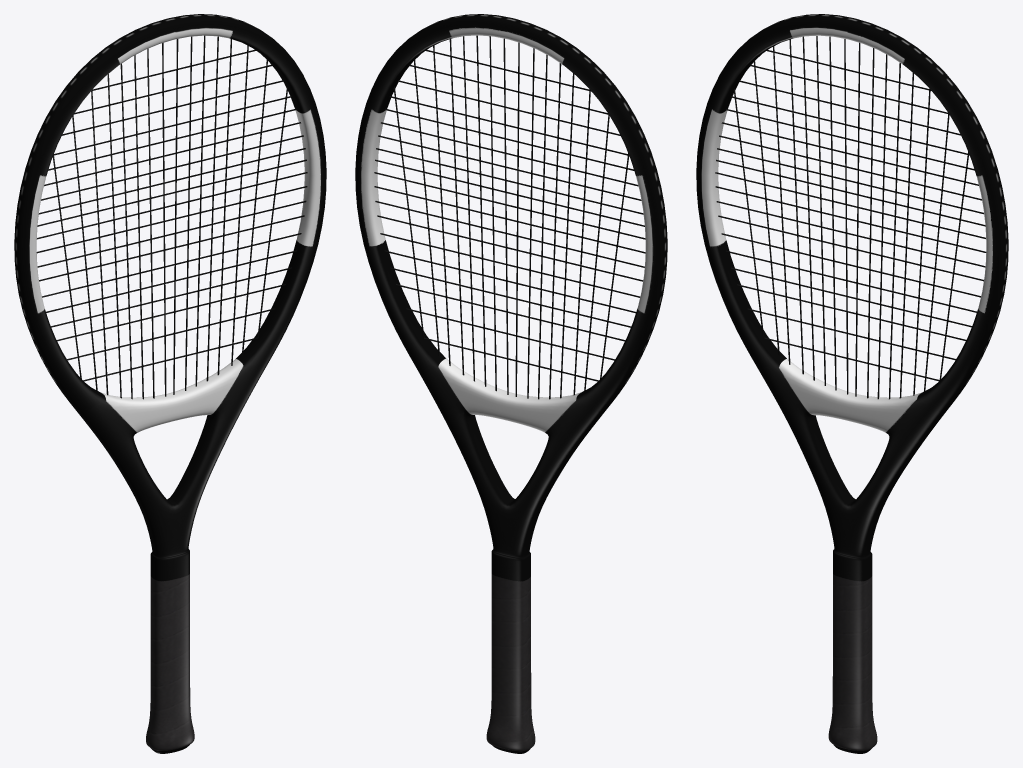
The model's file is TennisRacket.obj.
3 views of the same model, side by side, from view 1: azimuth 30°, elevation 25°; view 2: azimuth 150°, elevation 25°; view 3: azimuth 330°, elevation 25° (orthographic).
Visible parts, largest first — view 1: 10540_tennis_racket_v2; view 2: 10540_tennis_racket_v2; view 3: 10540_tennis_racket_v2.
Boxes of the visible parts, x1,y1,x2,y2 form: 10540_tennis_racket_v2: [14, 14, 326, 753]; 10540_tennis_racket_v2: [355, 14, 667, 753]; 10540_tennis_racket_v2: [696, 14, 1008, 753].
Size of the model in its own units: 30.35 by 68.68 by 2.93.
Materials: 1 (1 with a texture image).
